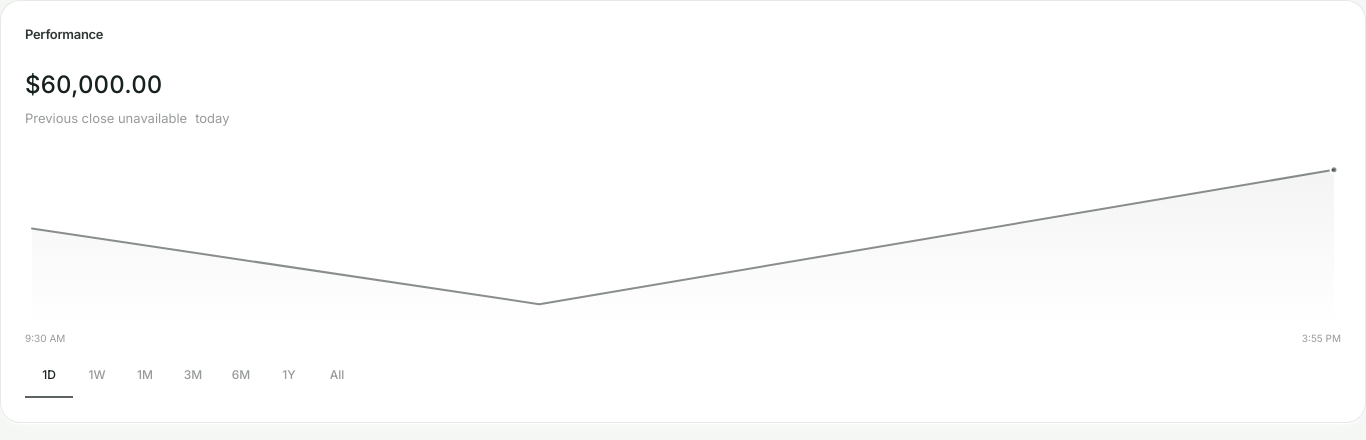
preserves the 1M comparison with the first range point
Expected: the slider is shown, [25,146,1341,326]
Click the button "1M": [145, 376] box [121,354,169,398]
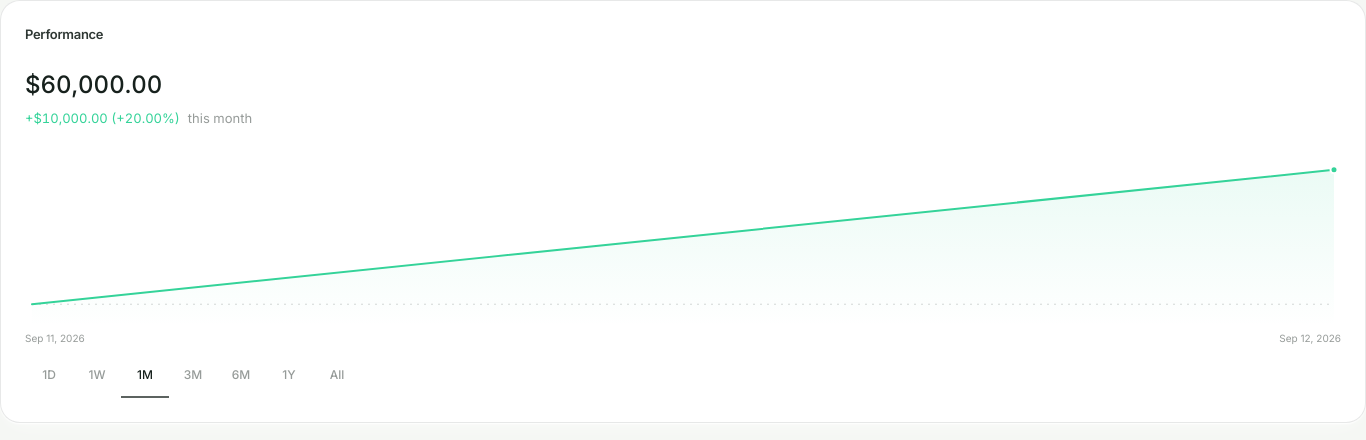
Result: the text "+$10,000.00 (+20.00%)" is shown at [25,108,180,128]
Press Home in the slider, box [25,146,1341,326]
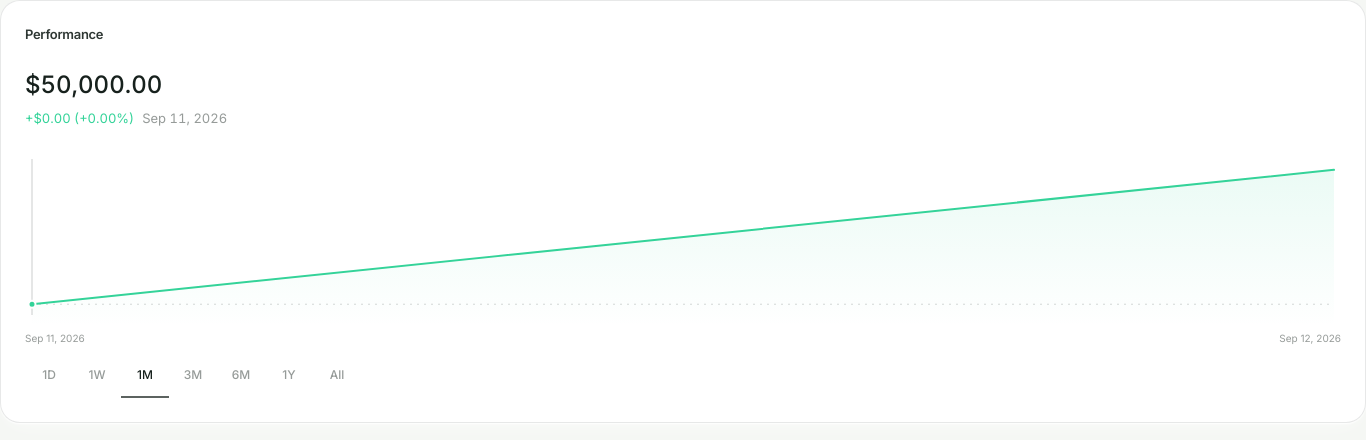
Result: the text "+$0.00 (+0.00%)" is shown at [25,108,134,128]
